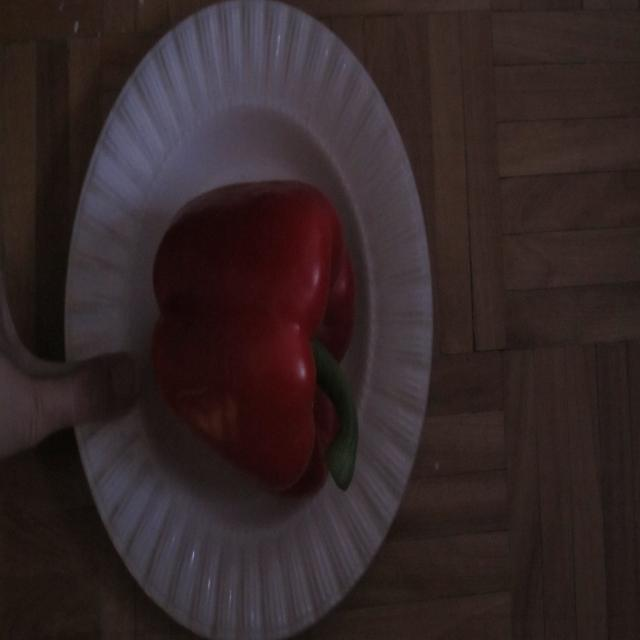Pepper: (149, 178, 358, 493)
